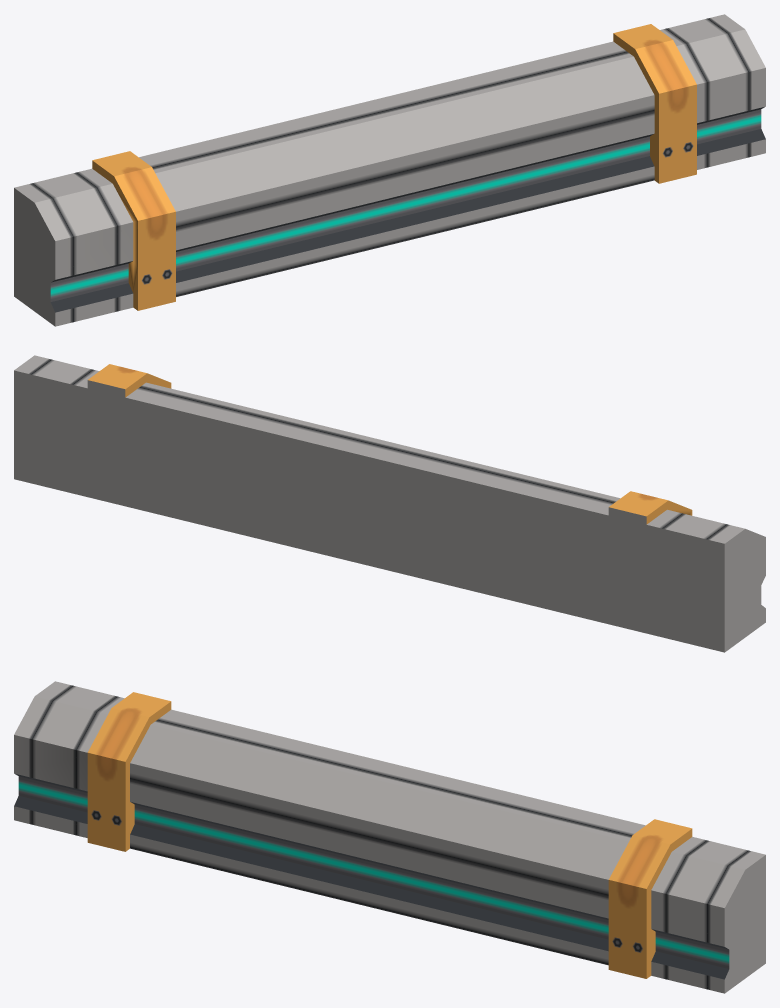
The model's file is SM_Bld_Floor_Trim_01.fbx.
The picture shows the model from 3 angles, top to bottom: view 1: azimuth 30°, elevation 25°; view 2: azimuth 150°, elevation 25°; view 3: azimuth 330°, elevation 25°; orthographic projection.
Visible parts, largest first — view 1: SM_Bld_Floor_Trim_01; view 2: SM_Bld_Floor_Trim_01; view 3: SM_Bld_Floor_Trim_01.
Boxes of the visible parts, bbox=[...] form: SM_Bld_Floor_Trim_01: bbox=[14, 14, 765, 326]; SM_Bld_Floor_Trim_01: bbox=[14, 355, 765, 652]; SM_Bld_Floor_Trim_01: bbox=[14, 681, 765, 993].
Size of the model in its own units: 250 by 39.37 by 27.93.
